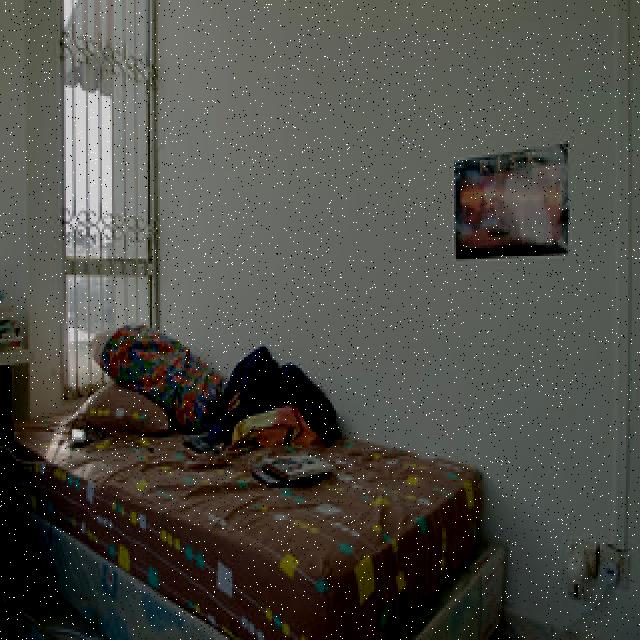bed: (11, 342, 479, 594)
